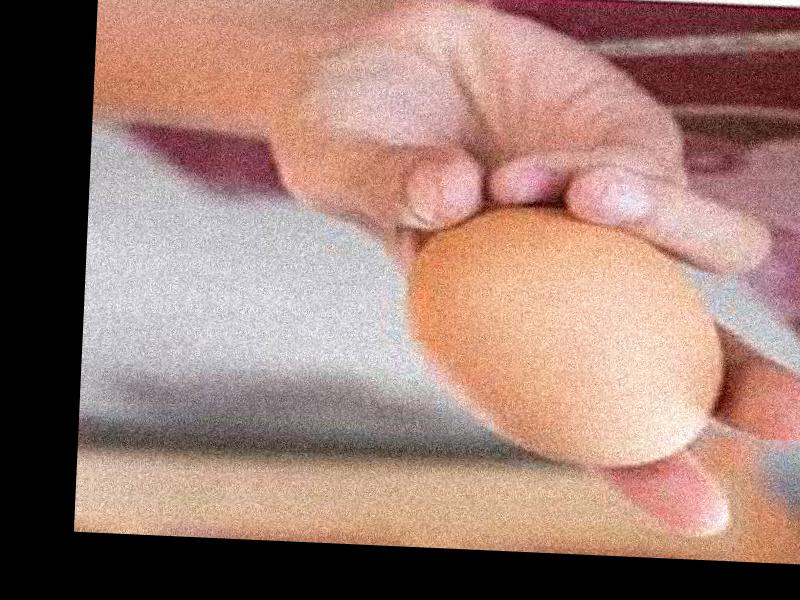Eggs: (404, 203, 733, 470)
